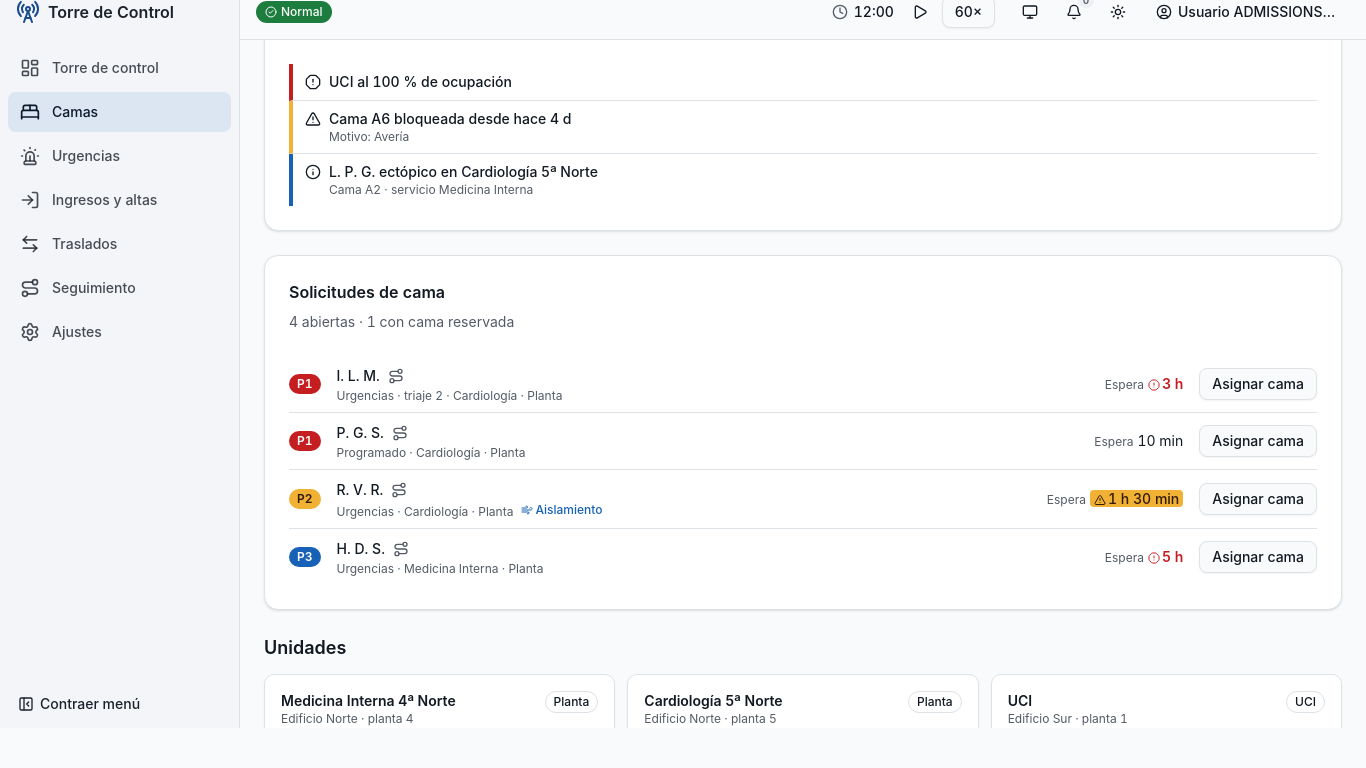
Test: assigning a bed › stays open with an explanation when the simulator assigns the request meanwhile
(page scrolled)
expect the list named "Solicitudes abiertas" is shown: met, box [289,356,1317,585]
Step 1. Click the button "Asignar cama" in the row of "I. L. M." → (1258, 384), box [1199,368,1317,400]
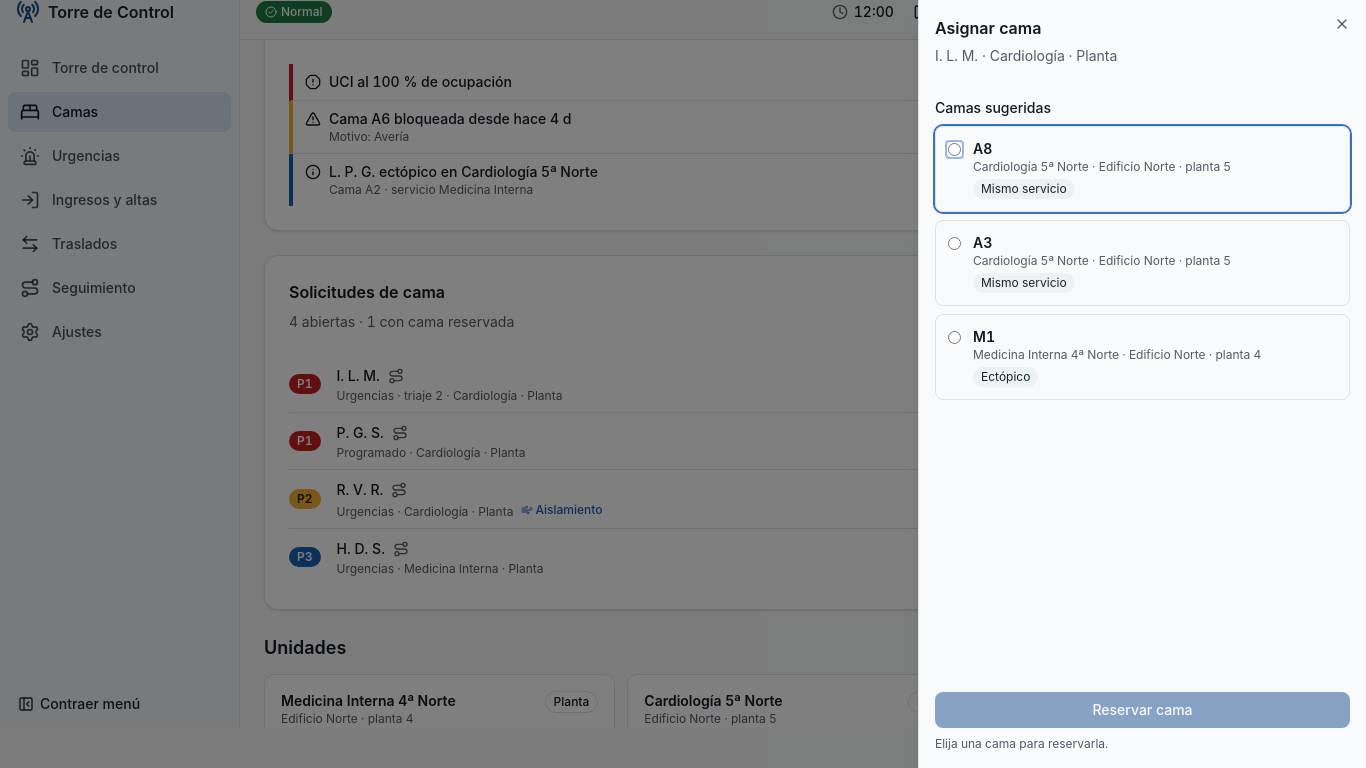
Step 2. Click the radio button labelled "A8" → (954, 150), box [948,143,961,156]
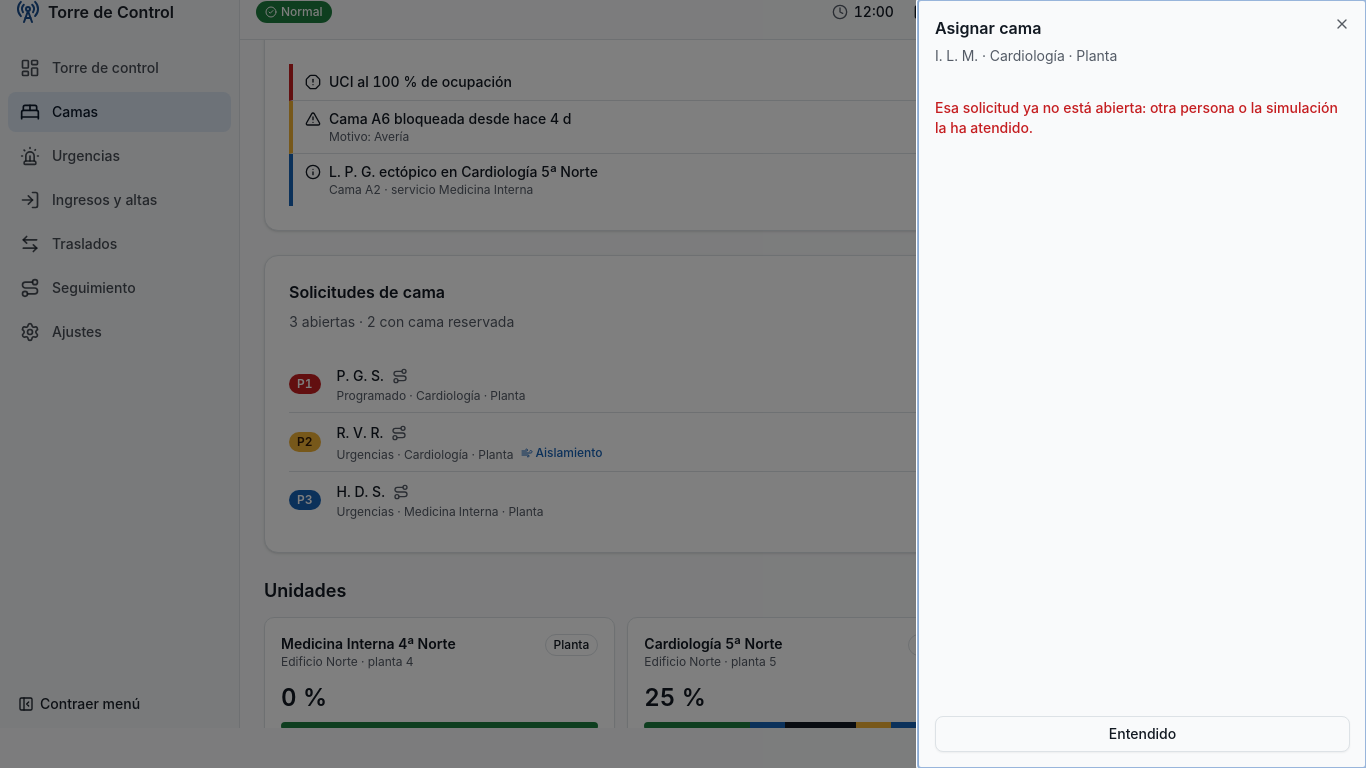
expect the message reads "Esa solicitud ya no está abierta: otra persona o la simulación la ha atendido.": met, box [935,99,1338,136]
expect the radio button is gone: met
expect the button "Reservar cama" is gone: met
Step 3. Click the button "Entendido" → (1142, 734), box [935,716,1350,752]
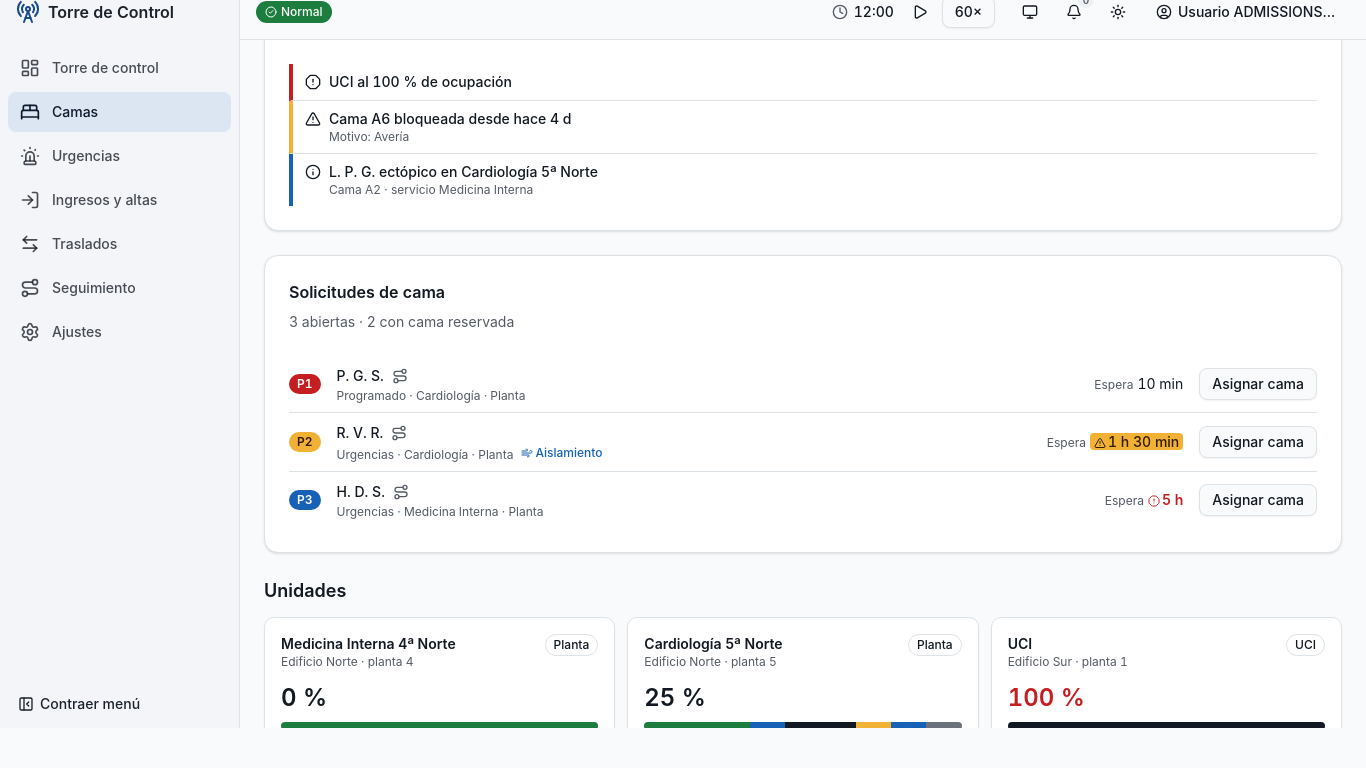
expect the dialog is gone: met
